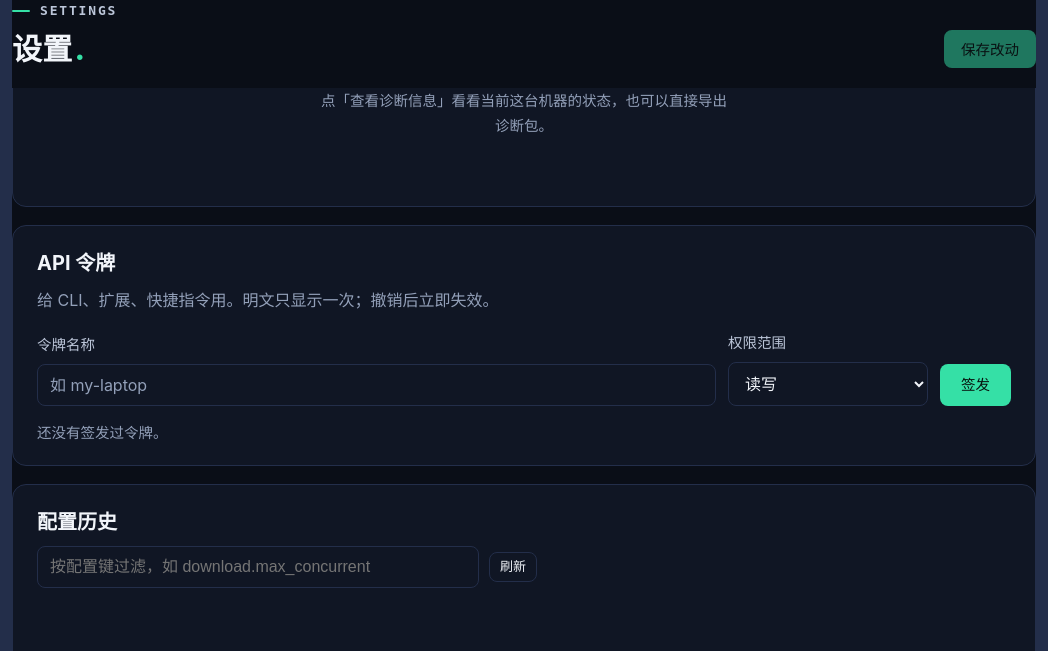
Test: Settings 视图 › 签发令牌：明文只显示这一次，可复制
This screenshot has width=1048, height=651.
(page scrolled)
Type "my-laptop" into the field labelled "令牌名称" at (376, 385), box [37,364,716,406]
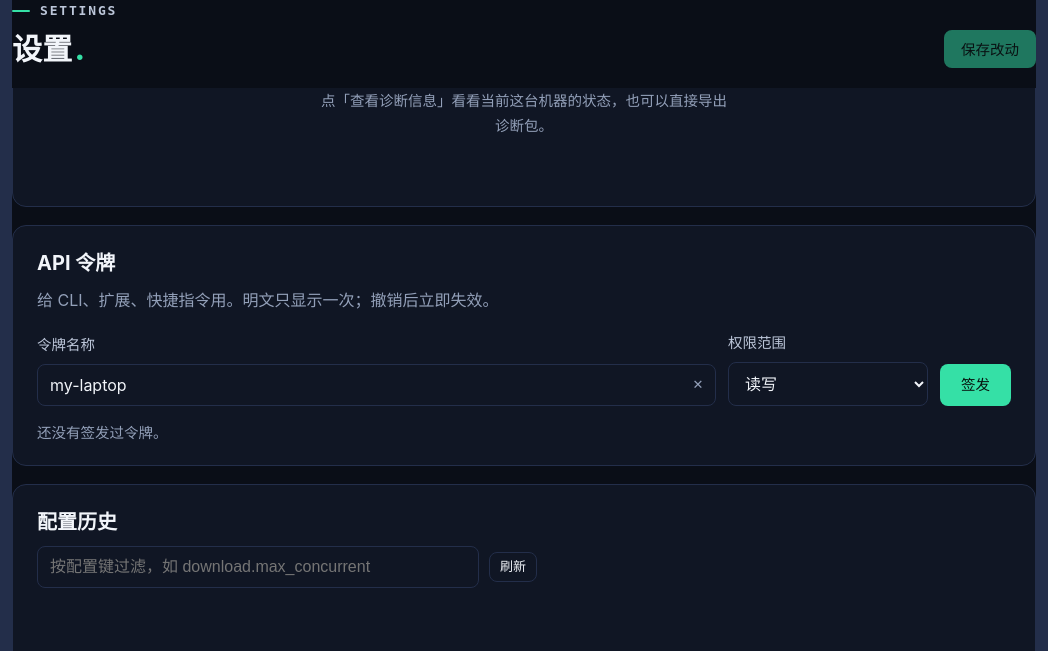
Click the button "签发" at (976, 385), box [940,364,1011,406]
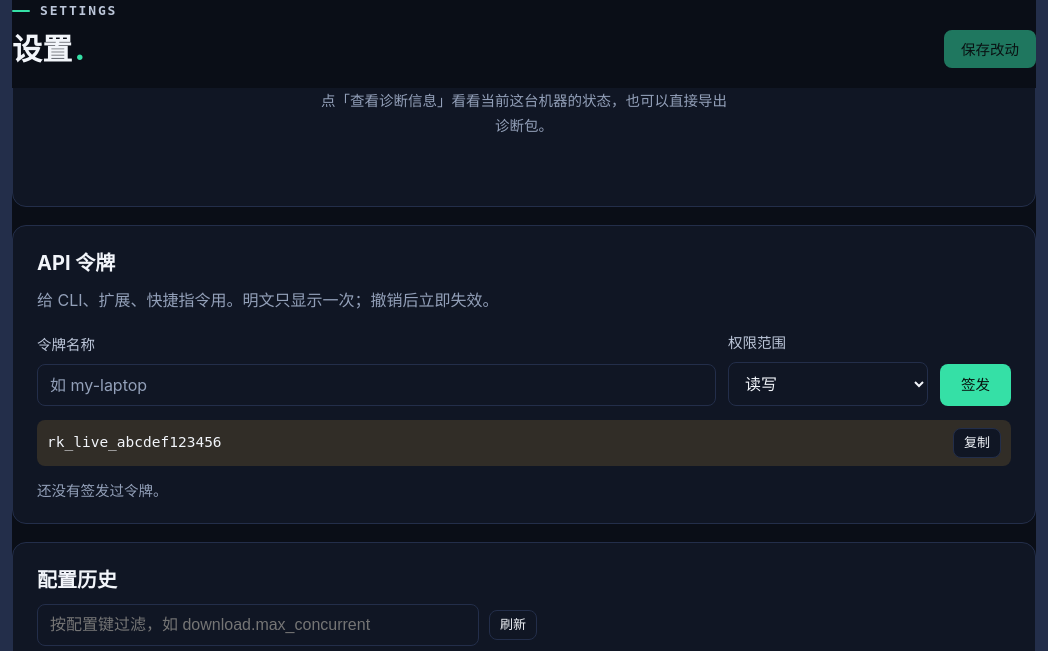
Result: the element with class "token-plain" is shown at [37,420,1011,466]
Result: the text "rk_live_abcdef123456" is shown at [47,434,222,450]
Result: the field labelled "令牌名称" is empty at [37,364,716,406]
